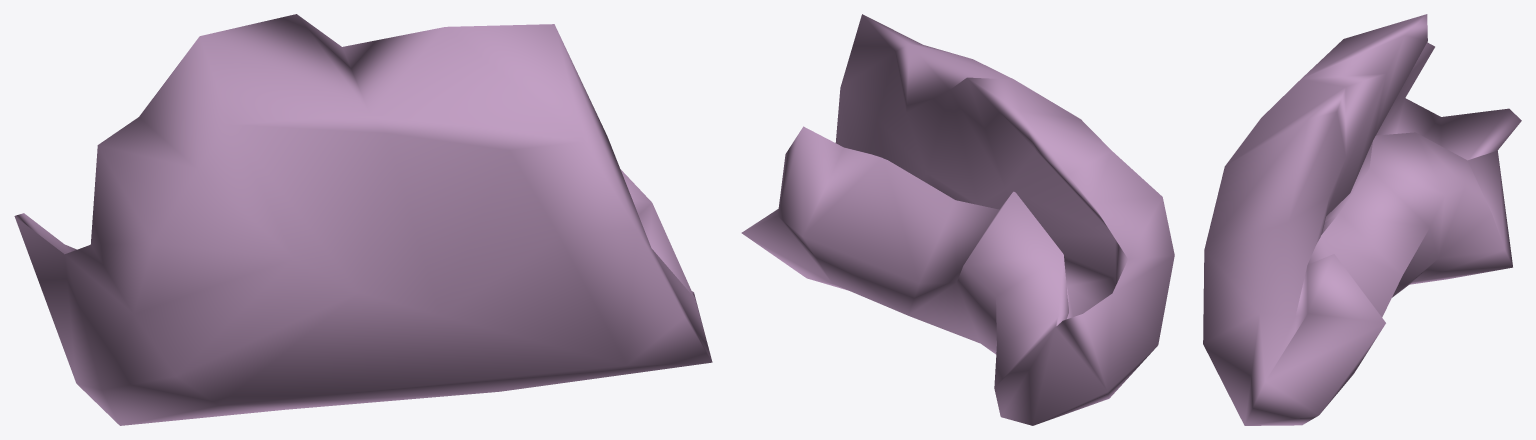
3 views of the same model, side by side, from view 1: azimuth 30°, elevation 25°; view 2: azimuth 150°, elevation 25°; view 3: azimuth 270°, elevation 25° (orthographic). The views are drawn at different scales.
Parts seen in each view (by area): view 1: 右侧外侧沟前水平支; view 2: 右侧外侧沟前水平支; view 3: 右侧外侧沟前水平支.
Boxes of the visible parts, <box> form: 右侧外侧沟前水平支: <box>14,14,712,425</box>; 右侧外侧沟前水平支: <box>741,14,1174,425</box>; 右侧外侧沟前水平支: <box>1203,14,1521,425</box>.
Bounding box in the file's own units: 0.0261 × 0.0166 × 0.0165.
